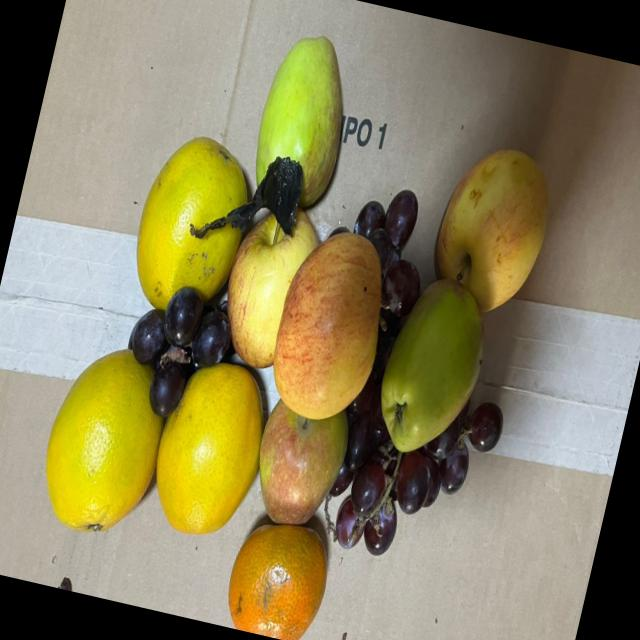bolsa_negra: (199, 143, 310, 239)
